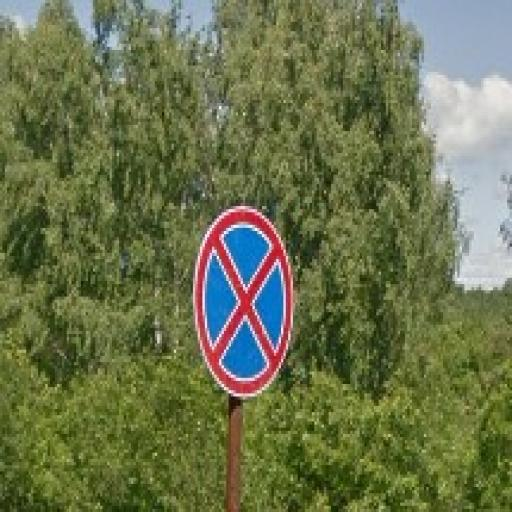traffic_sign: (194, 204, 296, 401)
